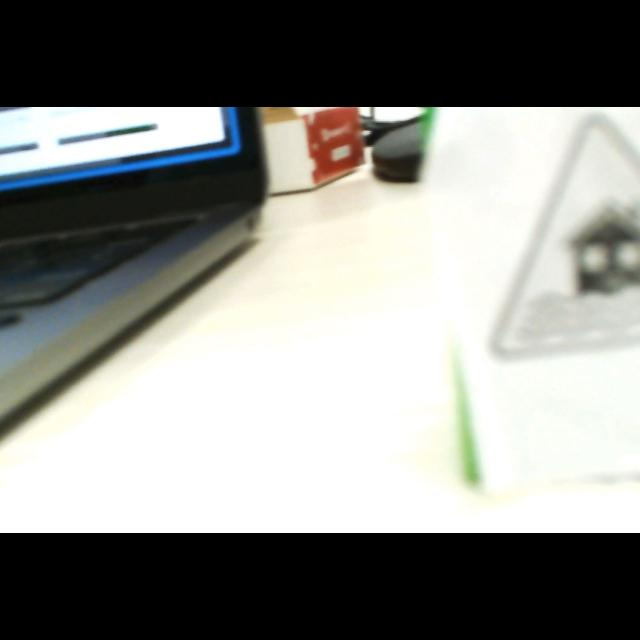Tsunami: (495, 114, 640, 355)
